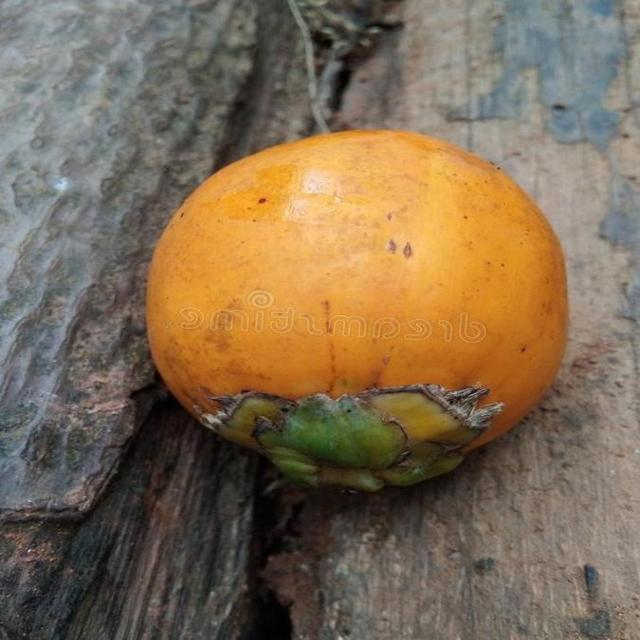good: (145, 130, 571, 496)
